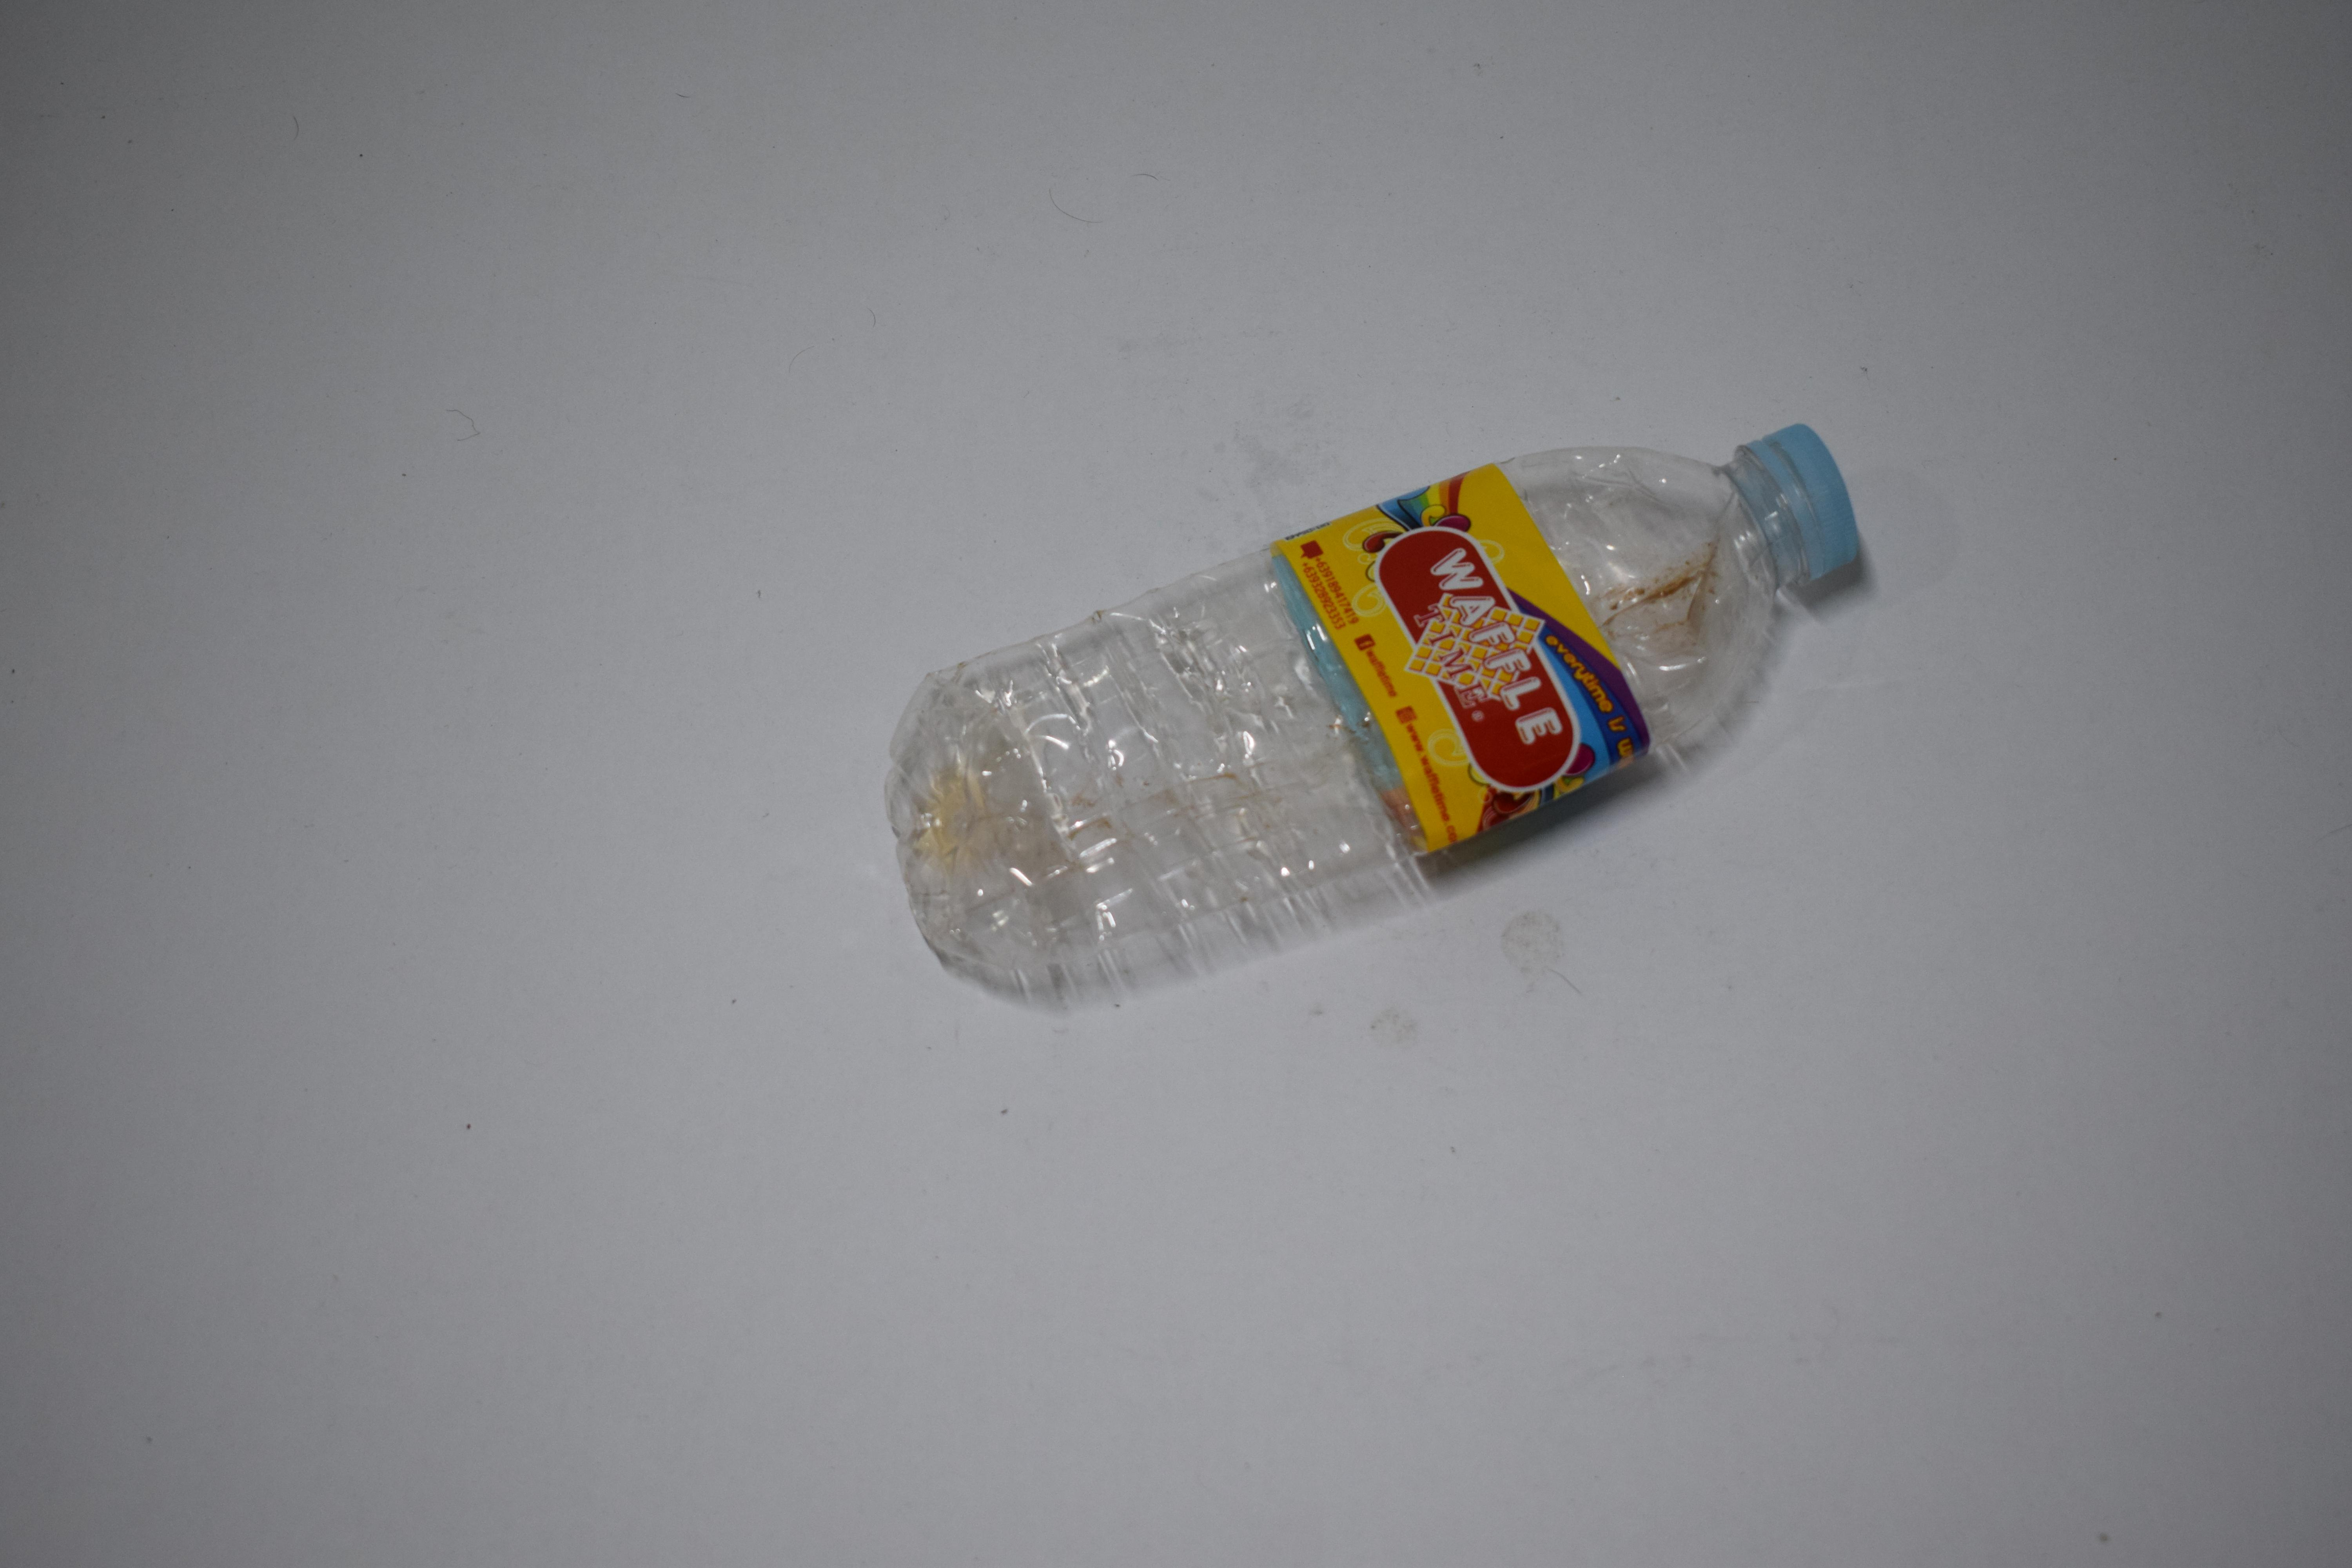bottle: (0, 339, 683, 921)
